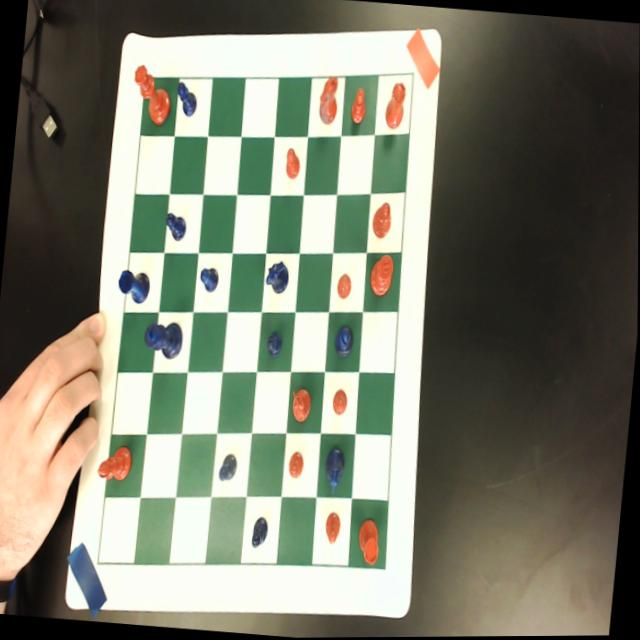B: (332, 323, 355, 358)
K: (142, 319, 183, 361)
N: (322, 444, 345, 495), (263, 260, 289, 293)
P: (173, 79, 199, 117), (162, 207, 187, 244), (250, 514, 269, 551), (197, 265, 219, 293), (218, 452, 238, 481), (264, 328, 283, 357)
R: (115, 267, 150, 305)
b: (97, 441, 133, 484), (371, 200, 393, 239)
k: (367, 251, 394, 298)
n: (315, 73, 339, 125), (289, 384, 314, 423)
p: (348, 84, 366, 125), (322, 512, 341, 545), (282, 147, 301, 178), (287, 450, 305, 477), (332, 389, 348, 414), (335, 273, 351, 298)
q: (129, 63, 173, 126)
r: (355, 516, 382, 565), (383, 79, 406, 131)
